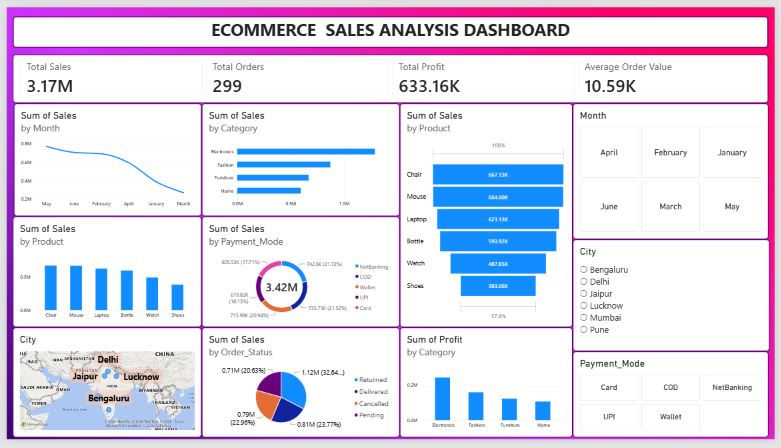

This screenshot's page, from the dashboard's own definition file:
{"tool":"powerbi","page":{"name":"Page 1","canvas":[1920,1080],"ordinal":0},"visuals":[{"type":"cardVisual","fields":{"Data":["Clean_Ecommerce.Total Sales","Clean_Ecommerce.Total Orders","Clean_Ecommerce.Total Profit","Clean_Ecommerce.Average Order Value"]},"box":[15,117.5,1889.6,121.7],"z":0},{"type":"textbox","box":[14.3,21.5,1889.6,78.7],"z":1000},{"type":"lineChart","fields":{"Category":["Clean_Ecommerce.Month"],"Y":["Sum(Clean_Ecommerce.Sales)"]},"box":[17.5,240,470,282.5],"z":2000},{"type":"barChart","fields":{"Category":["Clean_Ecommerce.Category"],"Y":["Sum(Clean_Ecommerce.Sales)"]},"box":[487.5,240,495,282.5],"z":3000},{"type":"columnChart","fields":{"Category":["Clean_Ecommerce.Product"],"Y":["Sum(Clean_Ecommerce.Sales)"]},"box":[15,522.5,472.5,277.5],"z":4000},{"type":"map","fields":{"Category":["Clean_Ecommerce.City"]},"box":[15,800,472.5,275],"z":5000},{"type":"donutChart","fields":{"Category":["Clean_Ecommerce.Payment_Mode"],"Y":["Sum(Clean_Ecommerce.Sales)"]},"box":[487.5,522.5,495,277.5],"z":6000},{"type":"pieChart","fields":{"Category":["Clean_Ecommerce.Order_Status"],"Y":["Sum(Clean_Ecommerce.Sales)"]},"box":[487.5,800,495,275],"z":7000},{"type":"funnel","fields":{"Category":["Clean_Ecommerce.Product"],"Y":["Sum(Clean_Ecommerce.Sales)"]},"box":[982.5,240,432.5,560],"z":8000},{"type":"columnChart","fields":{"Category":["Clean_Ecommerce.Category"],"Y":["Sum(Clean_Ecommerce.Profit)"]},"box":[982.5,800,432.5,275],"z":9000},{"type":"advancedSlicerVisual","fields":{"Values":["Clean_Ecommerce.Month"]},"box":[1415,240,490,340],"z":10000},{"type":"listSlicer","fields":{"Values":["Clean_Ecommerce.City"]},"box":[1415,580,492.5,280],"z":11000},{"type":"advancedSlicerVisual","fields":{"Values":["Clean_Ecommerce.Payment_Mode"]},"box":[1415,860,490,215],"z":12000}]}

Visuals, with their boxes in screenshot pixels (x1, y1, x2, y2), scaled from the page's 1920x1080 canvas onto the 781x448 screenshot:
cardVisual - Clean_Ecommerce.Total Sales x Clean_Ecommerce.Total Orders: (left=6, top=49, right=775, bottom=99)
textbox: (left=6, top=9, right=774, bottom=42)
lineChart - Clean_Ecommerce.Month x Sum(Clean_Ecommerce.Sales): (left=7, top=100, right=198, bottom=217)
barChart - Clean_Ecommerce.Category x Sum(Clean_Ecommerce.Sales): (left=198, top=100, right=400, bottom=217)
columnChart - Clean_Ecommerce.Product x Sum(Clean_Ecommerce.Sales): (left=6, top=217, right=198, bottom=332)
map - Clean_Ecommerce.City: (left=6, top=332, right=198, bottom=446)
donutChart - Clean_Ecommerce.Payment_Mode x Sum(Clean_Ecommerce.Sales): (left=198, top=217, right=400, bottom=332)
pieChart - Clean_Ecommerce.Order_Status x Sum(Clean_Ecommerce.Sales): (left=198, top=332, right=400, bottom=446)
funnel - Clean_Ecommerce.Product x Sum(Clean_Ecommerce.Sales): (left=400, top=100, right=576, bottom=332)
columnChart - Clean_Ecommerce.Category x Sum(Clean_Ecommerce.Profit): (left=400, top=332, right=576, bottom=446)
advancedSlicerVisual - Clean_Ecommerce.Month: (left=576, top=100, right=775, bottom=241)
listSlicer - Clean_Ecommerce.City: (left=576, top=241, right=776, bottom=357)
advancedSlicerVisual - Clean_Ecommerce.Payment_Mode: (left=576, top=357, right=775, bottom=446)
